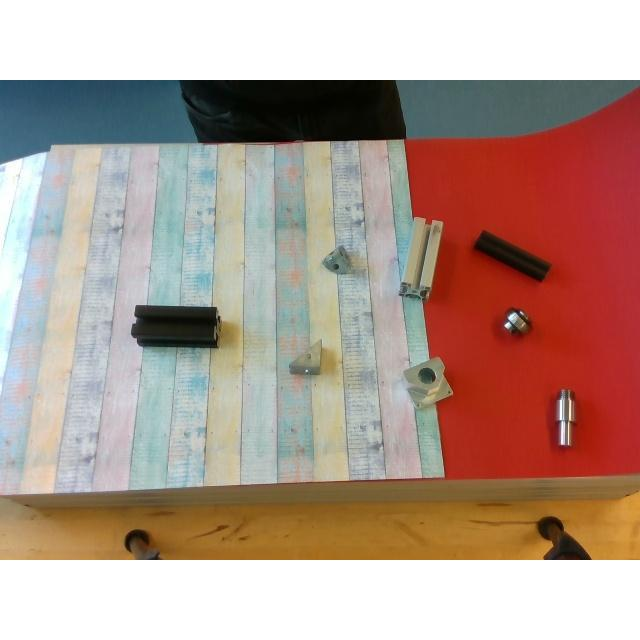Axis2: (556, 388, 574, 444)
Bearing2: (504, 307, 532, 337)
F20_20_B: (472, 230, 552, 280)
S40_40_B: (130, 305, 218, 347)
S40_40_G: (396, 216, 444, 300)
